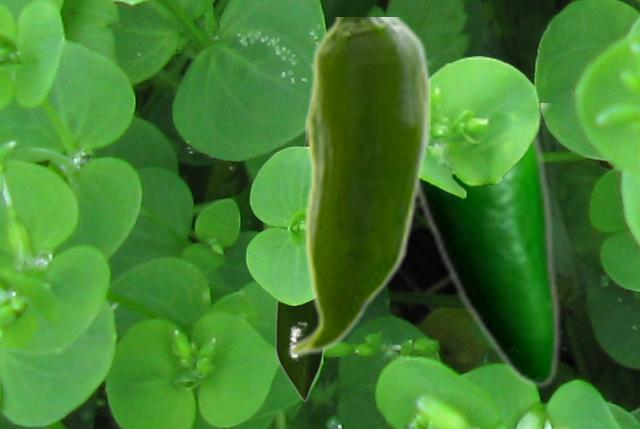green_chili: (285, 17, 429, 358), (418, 103, 560, 388), (274, 131, 326, 400)
